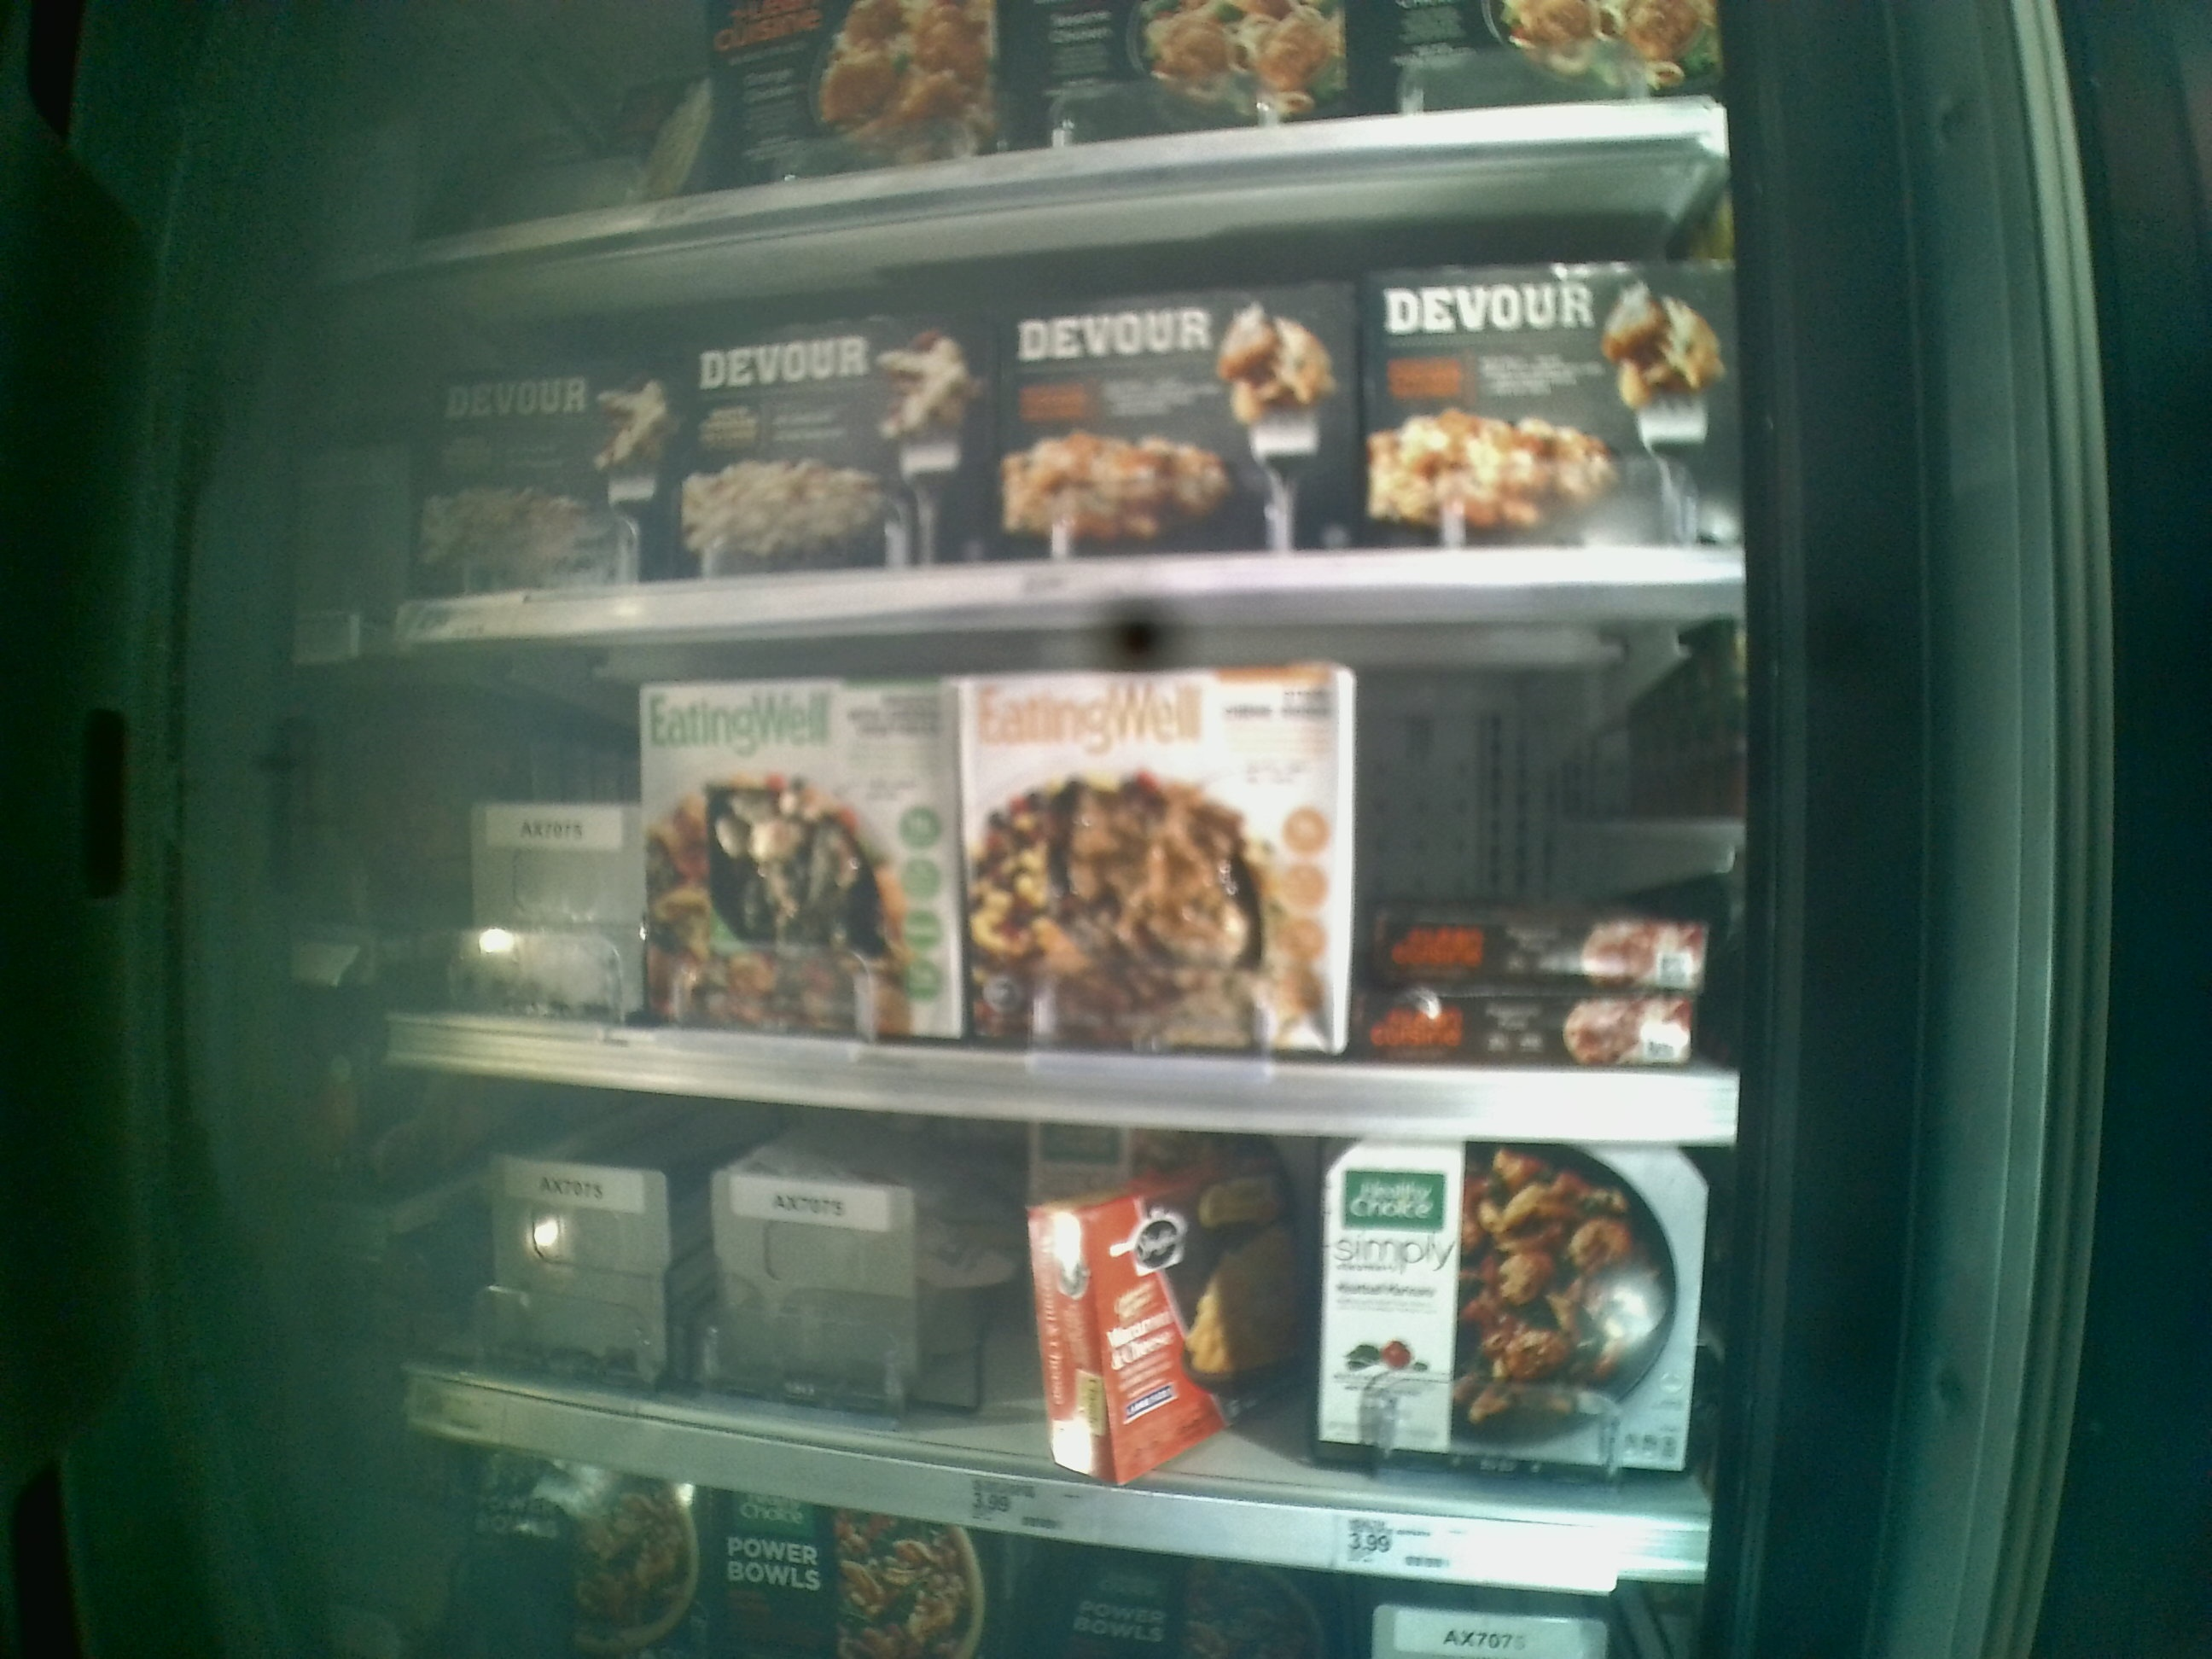shelf: (361, 606, 1747, 1148), (380, 1065, 1737, 1589), (315, 129, 1742, 627)
